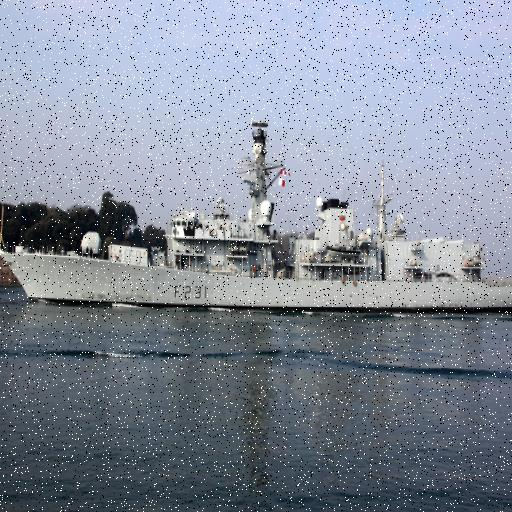Fragata: (1, 122, 512, 319)
